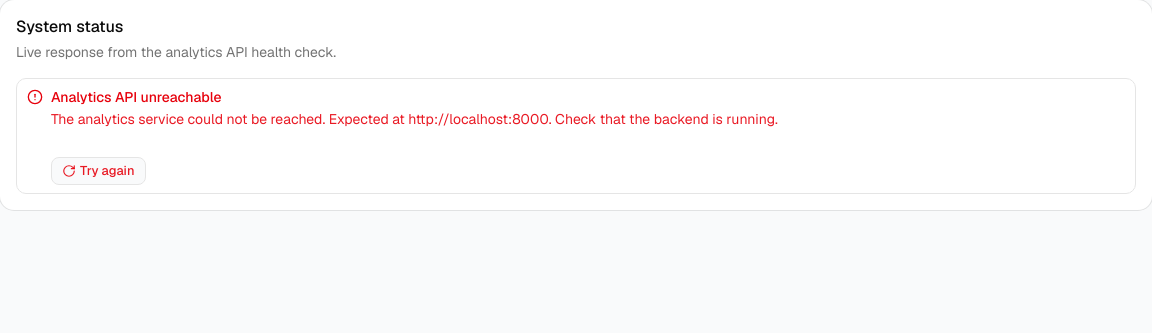
Test: SystemStatusCard › offers a working retry after a failure
The width and height of the screenshot is (1152, 333).
Click the button "Try again". click: (98, 171)
box: [51,157,146,185]
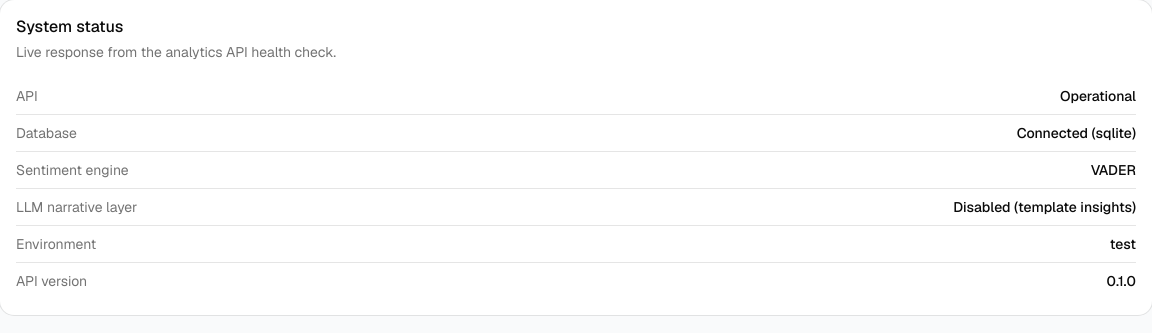
Expected: the text "Connected (sqlite)" is shown, [1017,123,1136,143]
